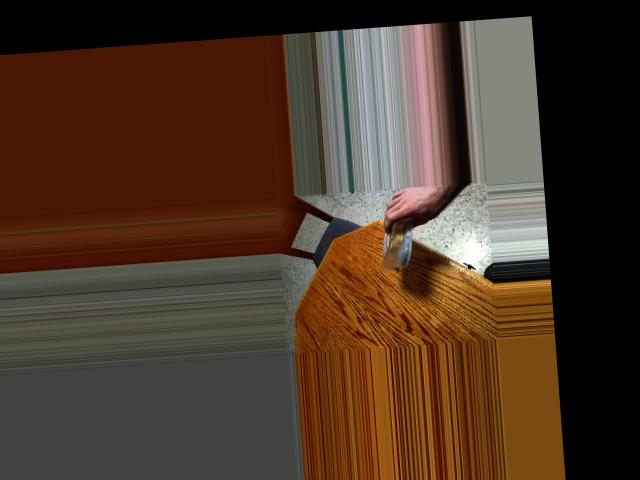cheese: (367, 200, 440, 272)
